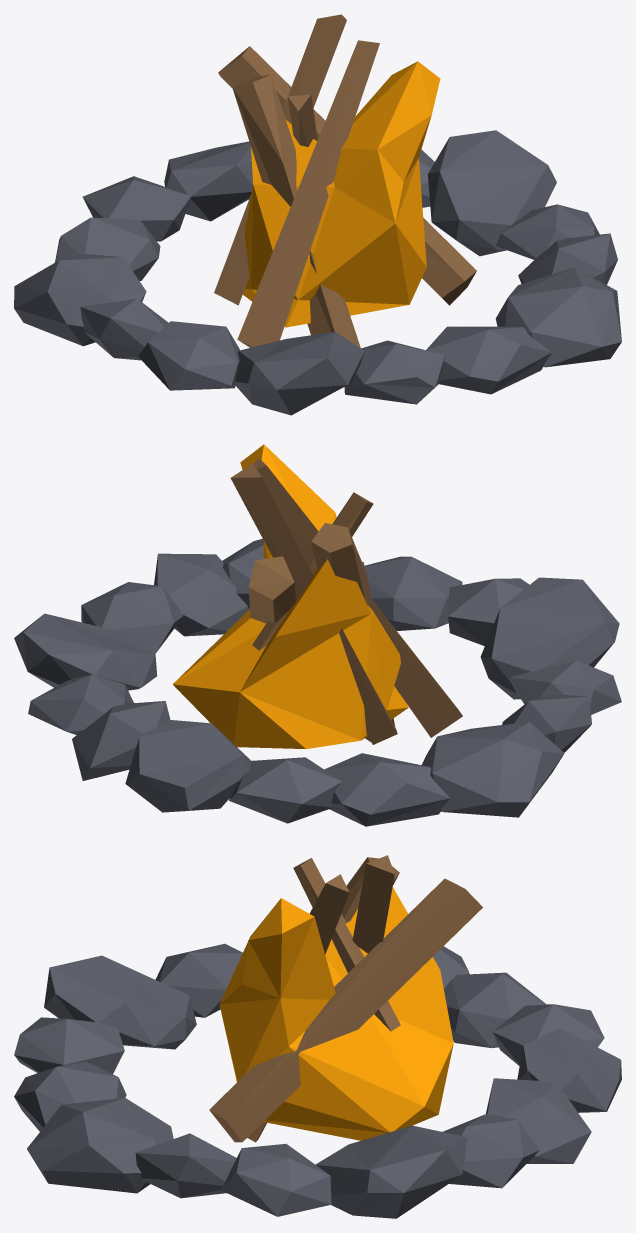
File: Fire.fbx
3 renders of one model, top to bottom at view 1: azimuth 30°, elevation 25°; view 2: azimuth 150°, elevation 25°; view 3: azimuth 270°, elevation 25°, orthographic. The views are drawn at different scales.
Parts seen in each view (by area): view 1: Fire; view 2: Fire; view 3: Fire.
Part boxes in pixels (box(x1,y1,x2,y2)): Fire: box(14, 14, 621, 415); Fire: box(14, 444, 621, 826); Fire: box(14, 855, 621, 1218).
Bounding box in the file's own units: 1.16 × 0.6375 × 1.14.
